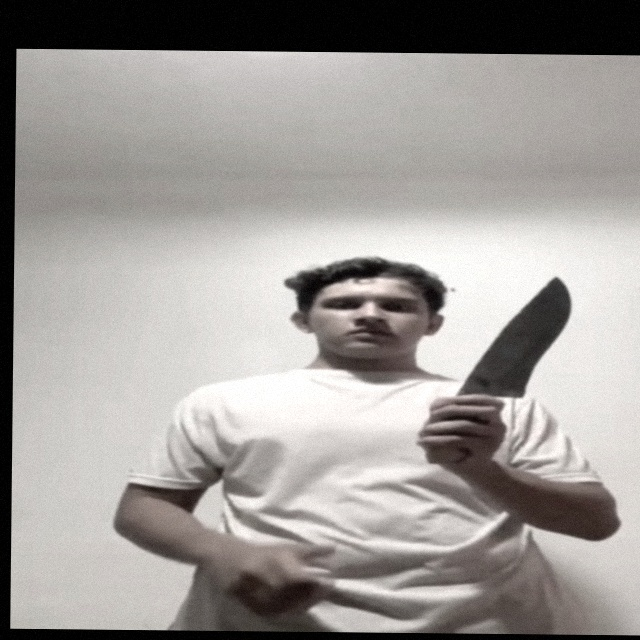Sharp-Object: (457, 274, 578, 406)
